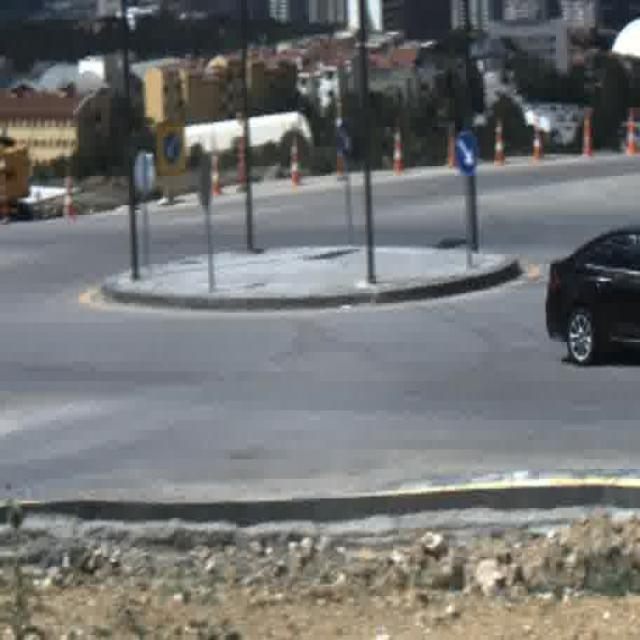Car: (542, 223, 640, 369)
